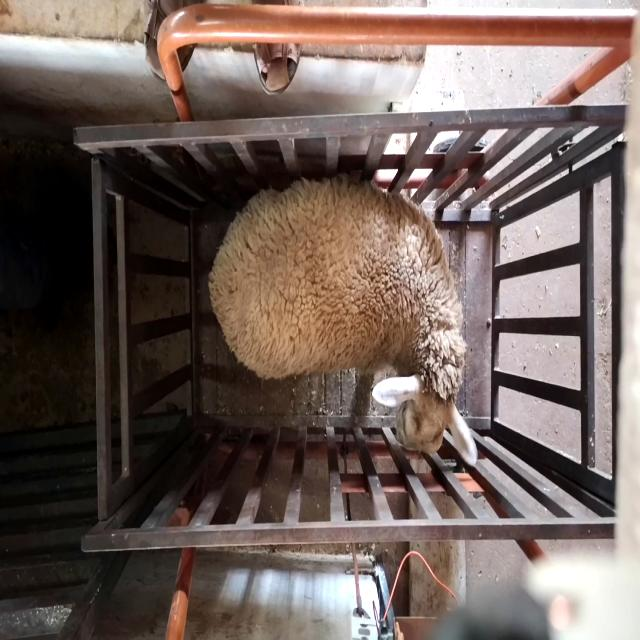sheep: (208, 175, 478, 466)
